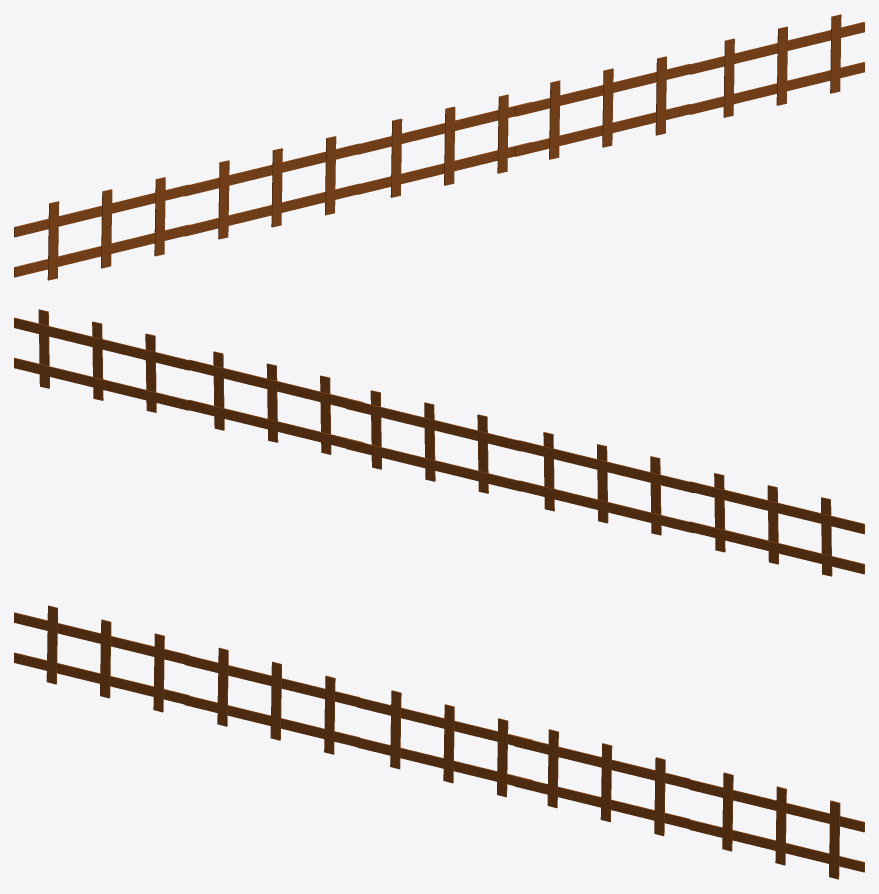
File: cerca.obj
3 renders of one model, top to bottom at view 1: azimuth 30°, elevation 25°; view 2: azimuth 150°, elevation 25°; view 3: azimuth 330°, elevation 25°, orthographic.
Parts seen in each view (by area): view 1: Cube.3; view 2: Cube.3; view 3: Cube.3.
Part boxes in pixels (x1=…): Cube.3: x1=14, y1=14, x2=864, y2=280; Cube.3: x1=14, y1=309, x2=864, y2=576; Cube.3: x1=14, y1=605, x2=864, y2=879.
Size of the model in its own units: 600 by 54.06 by 2.19.
